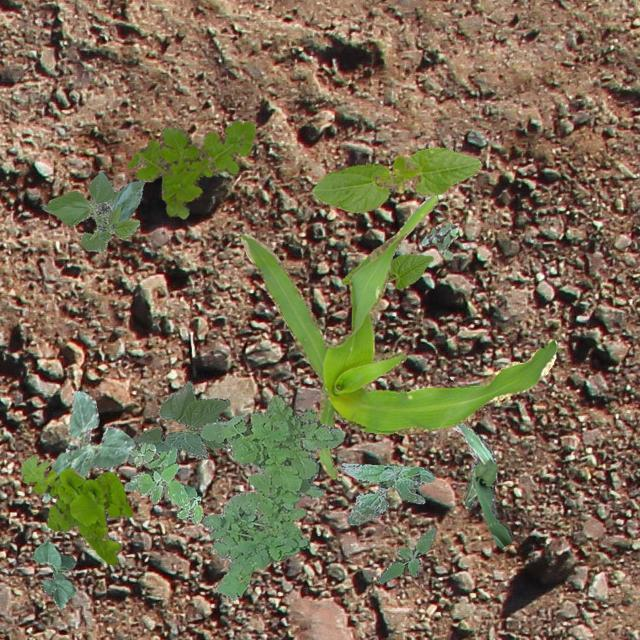crop: (238, 193, 556, 478), (312, 146, 480, 212), (41, 389, 136, 502), (126, 379, 228, 464), (42, 170, 144, 252), (450, 421, 512, 546), (30, 538, 76, 608), (340, 254, 432, 288)
weed: (198, 394, 342, 598), (127, 119, 256, 218), (20, 454, 132, 564), (124, 442, 202, 524), (341, 462, 434, 524), (376, 528, 436, 582), (420, 222, 458, 258)
